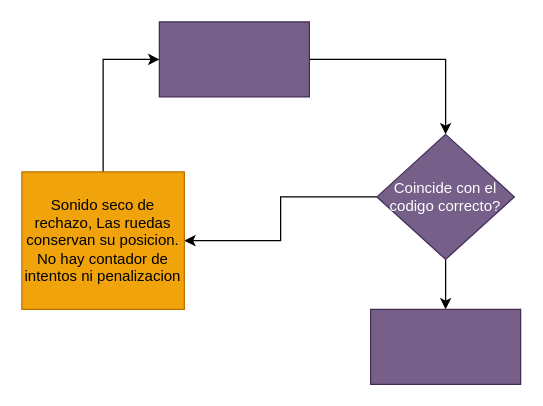
The diagram is 543 pixels wide and 406 high, and some of its shapes have lost their labels. The centre of each missing label's shape, as x and y in pixels:
El jugador gira las ruedas e introduce un codigo: pixel 233 59
Se abre la puerta o botiquin: pixel 445 346
